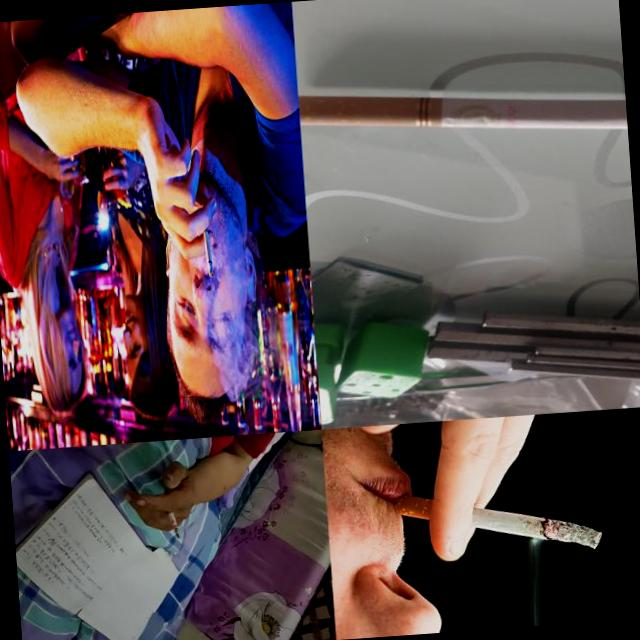smoke: (297, 72, 628, 158), (388, 479, 604, 564), (202, 220, 214, 280), (164, 504, 180, 538)
